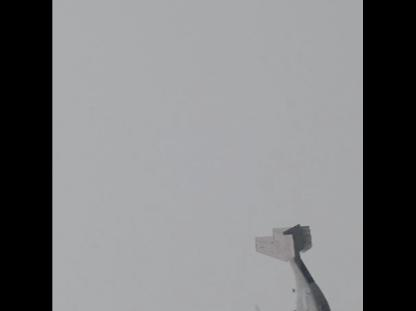Tornado: (227, 222, 347, 310)
